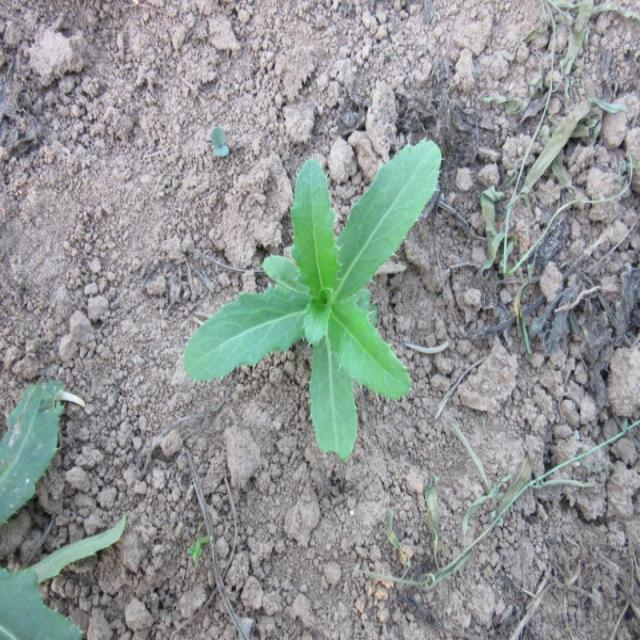cs: (181, 138, 442, 458)
